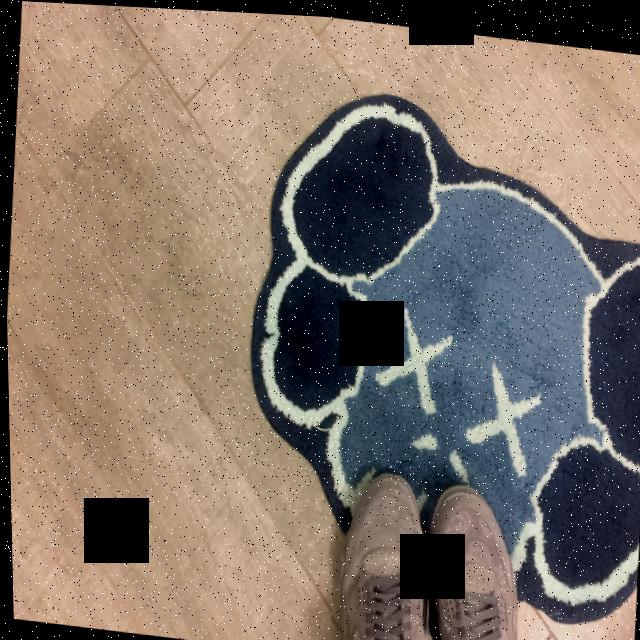shoe: (322, 458, 438, 640), (414, 472, 531, 640)
